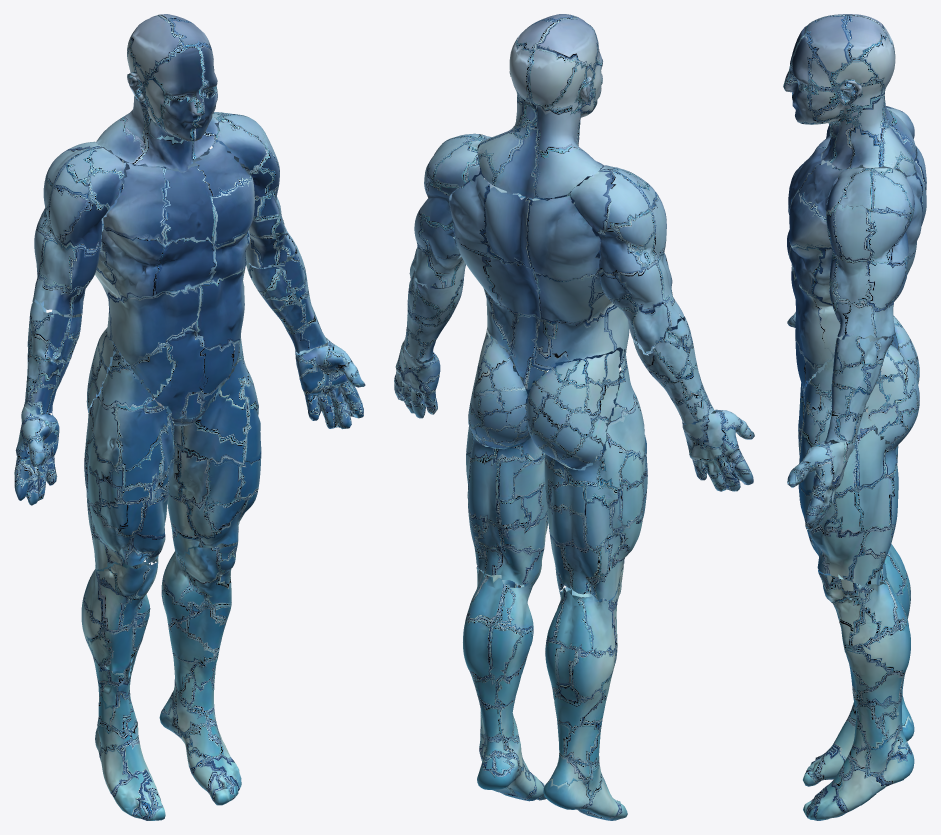
The model's file is tamuro-silhouette.glb.
3 renders of one model, left to right at view 1: azimuth 30°, elevation 25°; view 2: azimuth 150°, elevation 25°; view 3: azimuth 270°, elevation 25°, orthographic. The views are drawn at different scales.
Visible parts, largest first — view 1: tripo_part_0, tripo_part_1, tripo_part_4, tripo_part_2, tripo_part_5, tripo_part_3, tripo_part_7, tripo_part_6, tripo_part_9, tripo_part_11, tripo_part_10, tripo_part_8 (+1 smaller); view 2: tripo_part_0, tripo_part_2, tripo_part_1, tripo_part_3, tripo_part_4, tripo_part_7, tripo_part_5, tripo_part_new_2, tripo_part_6, tripo_part_new_1, tripo_part_11, tripo_part_8 (+2 smaller); view 3: tripo_part_4, tripo_part_2, tripo_part_6, tripo_part_5, tripo_part_0, tripo_part_10, tripo_part_new_1, tripo_part_3, tripo_part_9, tripo_part_new_2, tripo_part_7, tripo_part_1.
Boxes of the visible parts, box(x1,y1,x2,y2) form: tripo_part_0: box(95, 141, 254, 419); tripo_part_1: box(84, 349, 174, 569); tripo_part_4: box(159, 542, 241, 805); tripo_part_2: box(96, 14, 218, 172); tripo_part_5: box(161, 335, 261, 554); tripo_part_3: box(81, 561, 165, 820); tripo_part_7: box(32, 141, 125, 315); tripo_part_6: box(212, 112, 295, 268); tripo_part_9: box(295, 337, 365, 429); tripo_part_11: box(24, 301, 81, 414); tripo_part_10: box(246, 241, 327, 353); tripo_part_8: box(14, 407, 59, 505); tripo_part_0: box(449, 161, 629, 389); tripo_part_2: box(478, 14, 603, 198); tripo_part_1: box(544, 349, 647, 600); tripo_part_3: box(543, 566, 627, 820); tripo_part_4: box(463, 562, 546, 801); tripo_part_7: box(570, 165, 684, 353); tripo_part_5: box(466, 330, 548, 585); tripo_part_new_2: box(526, 350, 620, 469); tripo_part_6: box(413, 133, 491, 288); tripo_part_new_1: box(468, 328, 530, 448); tripo_part_11: box(633, 316, 714, 424); tripo_part_8: box(682, 409, 754, 491); tripo_part_4: box(803, 569, 914, 820); tripo_part_2: box(783, 14, 916, 175); tripo_part_6: box(825, 168, 914, 338); tripo_part_5: box(798, 357, 898, 587); tripo_part_0: box(787, 136, 926, 403); tripo_part_10: box(825, 334, 893, 442); tripo_part_new_1: box(865, 344, 919, 448); tripo_part_3: box(803, 544, 914, 786); tripo_part_9: box(787, 439, 854, 530); tripo_part_new_2: box(891, 315, 919, 384); tripo_part_7: box(826, 106, 914, 178); tripo_part_1: box(798, 355, 898, 463).
Size of the model in its own units: 0.4572 by 0.9796 by 0.1628.
1 material, 1 textured.
